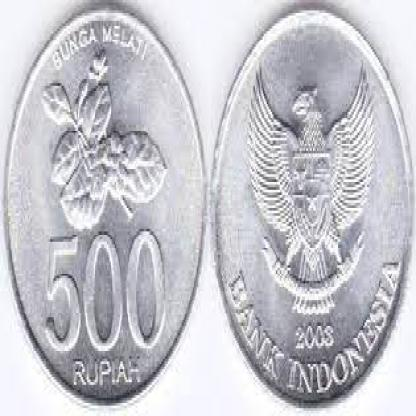coin_500_e2003: (0, 0, 210, 412), (209, 0, 416, 411)
